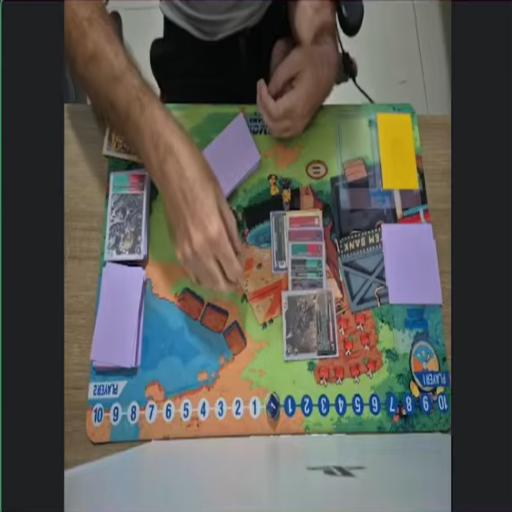card: (281, 290, 337, 362), (107, 168, 147, 262), (100, 116, 155, 160), (290, 259, 329, 297), (268, 206, 288, 271), (286, 204, 326, 229), (288, 241, 326, 262), (290, 227, 324, 243)
